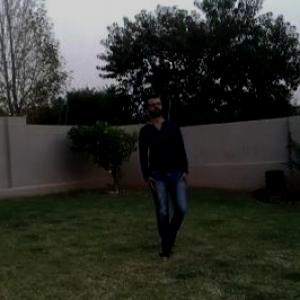follow: (137, 88, 195, 257)
